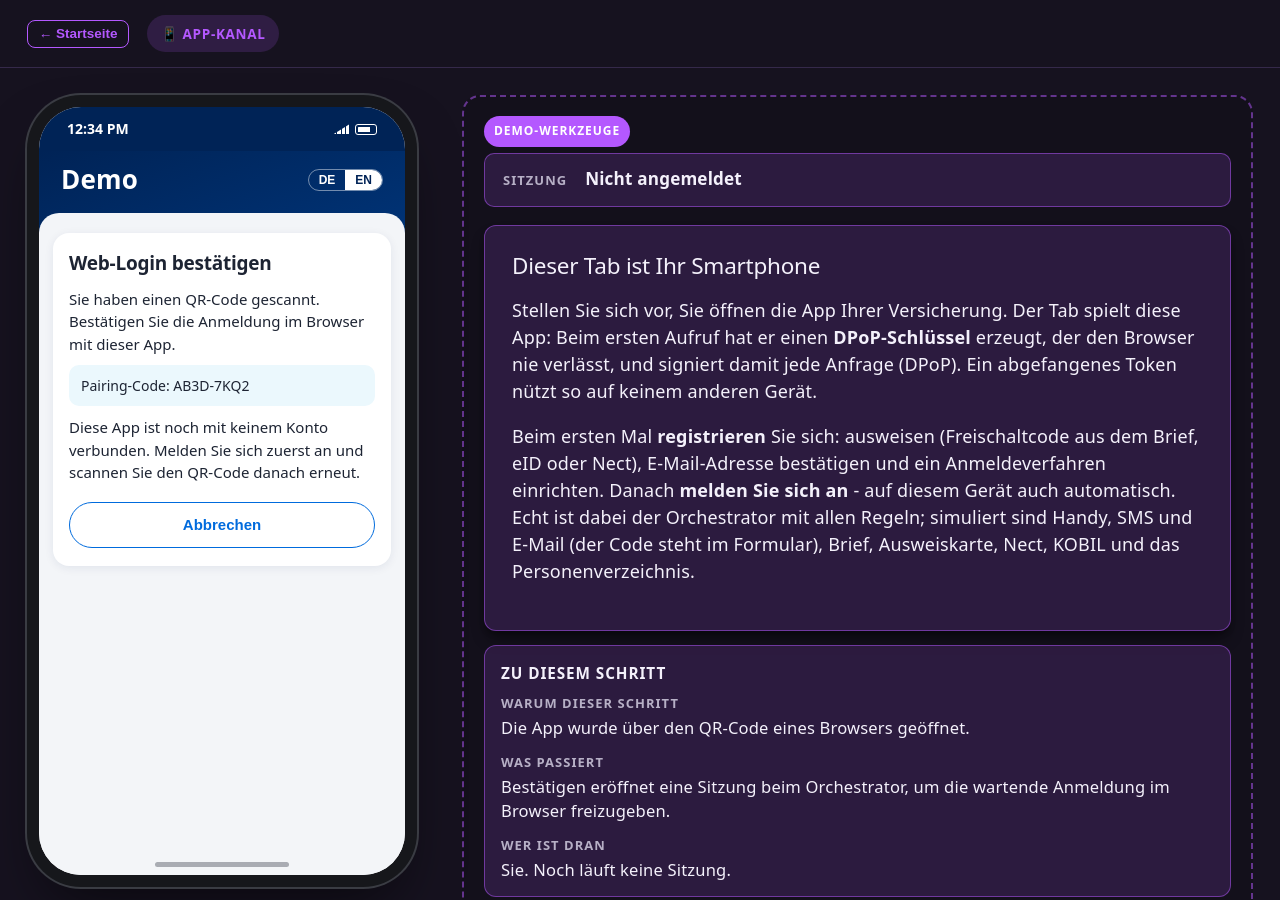
it: gescannter Pairing-Code auf einem Gerät ohne Konto › bietet nur den Ausweg an und verwirft den Code
Expected: the text "Pairing-Code: AB3D-7KQ2" is shown, [69,365,375,406]
Expected: the button "Mit E-Mail-Adresse anmelden" is not shown
Click the button "Abbrechen" at (222, 525), box [69,502,375,548]
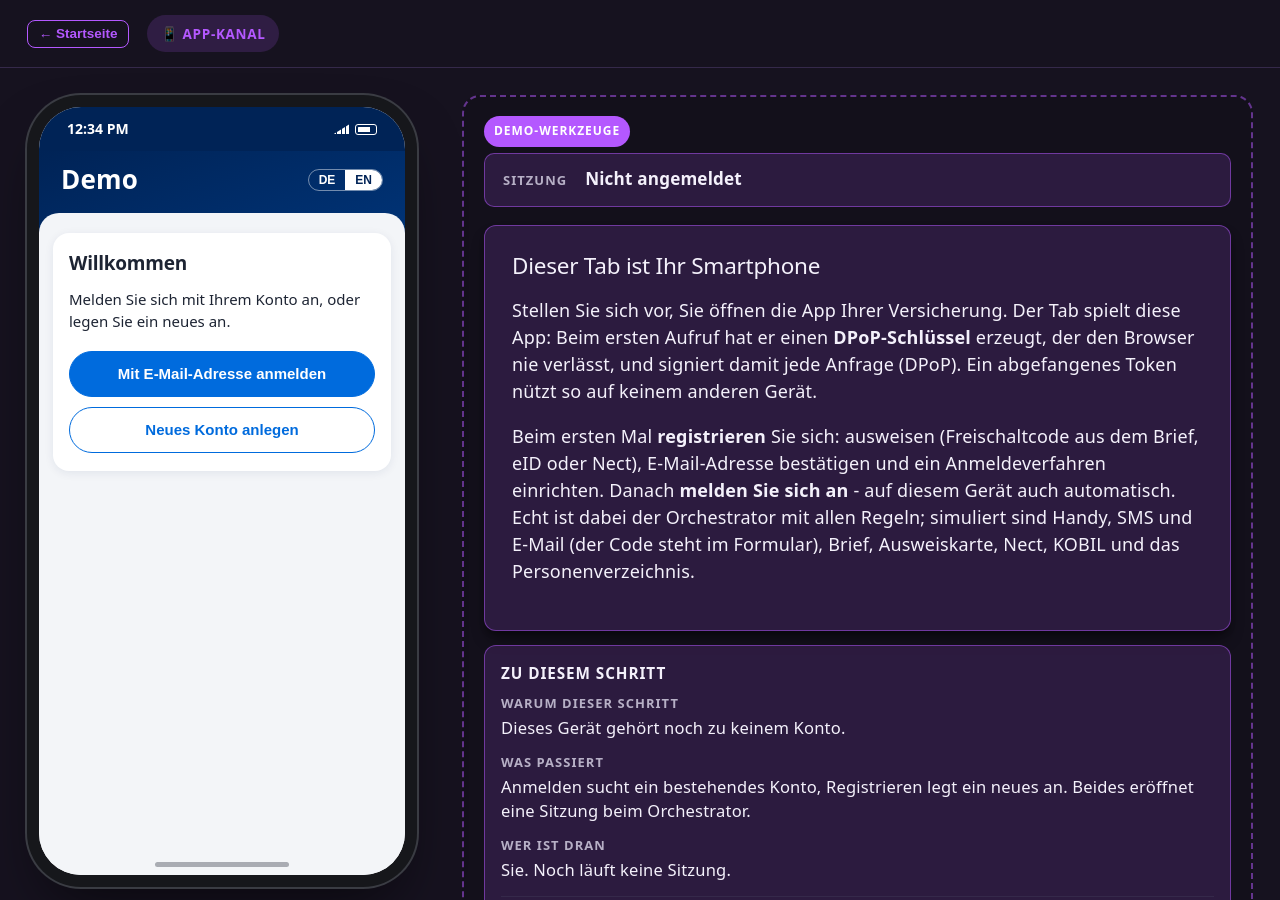
Result: the text "AB3D-7KQ2" is gone
Result: the button "Neues Konto anlegen" is shown at [69,407,375,453]
